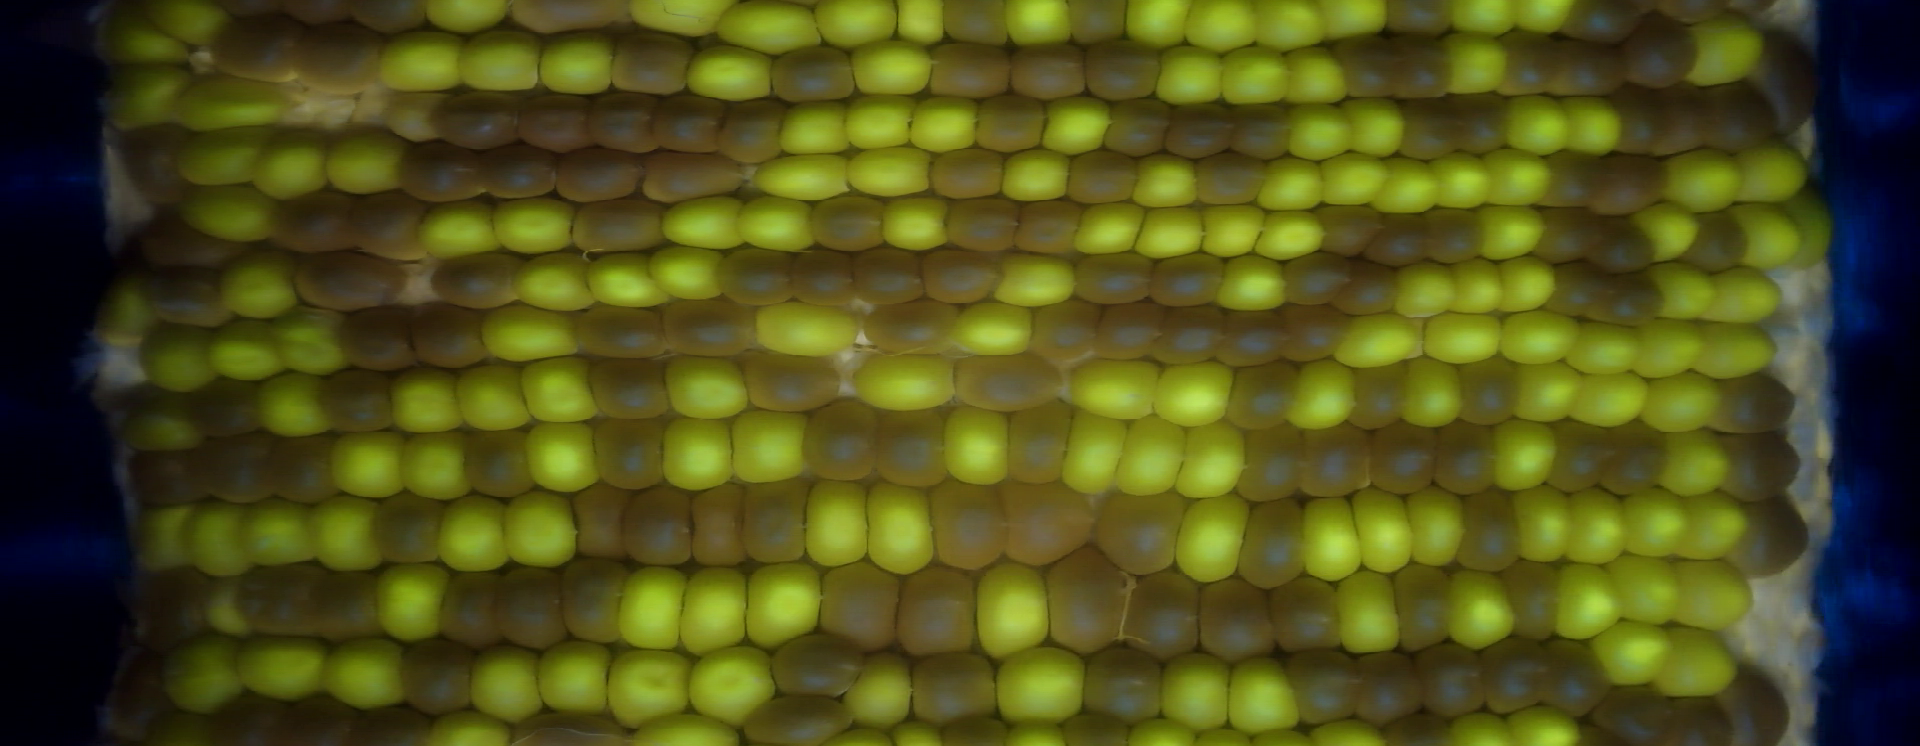fluorescent: (972, 556, 1062, 660), (993, 646, 1092, 728), (683, 644, 781, 726), (740, 561, 824, 650), (1673, 550, 1757, 639), (458, 639, 549, 723), (602, 644, 694, 726), (863, 477, 938, 577), (1176, 488, 1251, 586), (1325, 566, 1407, 657), (1441, 560, 1520, 653), (676, 560, 749, 657), (160, 632, 247, 713), (502, 486, 583, 572), (433, 490, 513, 577), (1071, 355, 1167, 428), (305, 491, 386, 576), (1158, 644, 1236, 733), (1171, 416, 1247, 506), (182, 180, 283, 247), (217, 243, 300, 323), (236, 628, 329, 701), (130, 320, 220, 393), (800, 475, 872, 567), (372, 24, 465, 96), (479, 298, 577, 365), (1597, 555, 1686, 628), (617, 565, 688, 657), (1346, 481, 1416, 575), (178, 73, 288, 132), (375, 555, 447, 644), (1656, 624, 1738, 702), (1656, 146, 1744, 218), (1223, 654, 1304, 733), (658, 408, 735, 490), (726, 412, 812, 485), (323, 635, 405, 710), (940, 402, 1009, 491), (451, 356, 535, 429), (752, 296, 860, 353), (852, 350, 958, 408), (386, 364, 468, 437), (393, 430, 475, 503), (844, 648, 917, 730), (529, 28, 618, 96), (520, 355, 604, 428), (1561, 483, 1633, 566), (236, 495, 320, 567), (1118, 412, 1184, 502), (538, 635, 613, 713), (456, 28, 544, 96), (682, 43, 778, 104), (1633, 370, 1723, 435), (256, 124, 331, 201), (208, 314, 288, 386), (507, 247, 594, 314), (662, 354, 749, 419), (1488, 414, 1558, 495), (1289, 353, 1358, 435), (718, 2, 824, 55), (98, 64, 182, 130), (1299, 492, 1362, 582), (525, 418, 600, 492), (1153, 360, 1233, 430), (1510, 481, 1577, 563), (329, 127, 408, 197), (994, 244, 1078, 309), (658, 191, 749, 250), (489, 195, 577, 256), (1618, 486, 1689, 562), (329, 430, 408, 499), (1408, 480, 1468, 570), (184, 497, 251, 577), (1062, 407, 1124, 492), (1561, 554, 1620, 644), (1338, 309, 1418, 375), (1589, 619, 1670, 684), (282, 304, 354, 376), (89, 12, 184, 67), (1657, 428, 1729, 499), (951, 298, 1033, 360), (256, 366, 331, 435), (842, 39, 931, 97), (179, 125, 260, 187), (756, 148, 856, 198), (1693, 323, 1778, 381), (1420, 145, 1494, 211), (1509, 356, 1582, 423), (1479, 143, 1555, 207), (1642, 258, 1718, 322), (1498, 307, 1580, 366), (1570, 364, 1640, 432), (1473, 197, 1547, 262), (1676, 492, 1750, 557), (845, 92, 920, 156), (736, 196, 818, 254), (1494, 247, 1561, 317), (1716, 256, 1782, 327), (418, 201, 504, 255), (1629, 316, 1702, 380), (656, 241, 731, 304), (1419, 309, 1500, 366), (124, 397, 204, 454), (1215, 47, 1292, 107), (588, 250, 670, 306), (1697, 16, 1762, 87), (1152, 40, 1224, 104), (1041, 96, 1117, 156), (778, 97, 853, 157), (1404, 356, 1466, 430), (845, 145, 929, 197), (1633, 198, 1700, 265), (1286, 39, 1351, 107), (1344, 97, 1411, 162), (1562, 96, 1629, 160), (1393, 255, 1457, 322), (1561, 322, 1641, 376), (1287, 98, 1356, 160), (1736, 141, 1805, 203), (879, 190, 949, 251), (1320, 146, 1386, 209), (629, 709, 743, 746), (909, 93, 981, 151), (1071, 197, 1142, 255), (1504, 93, 1567, 157), (1204, 198, 1270, 260), (1133, 201, 1202, 258), (91, 281, 148, 350), (1258, 153, 1322, 214), (820, 2, 898, 54), (1133, 149, 1199, 209), (1217, 254, 1283, 314), (1004, 143, 1071, 202), (1445, 27, 1502, 96), (1179, 1, 1258, 51), (1254, 208, 1330, 260), (1446, 257, 1507, 320), (1740, 202, 1794, 271), (1382, 151, 1440, 214), (140, 503, 189, 578), (422, 710, 520, 746), (626, 1, 722, 37), (1251, 1, 1330, 44), (1783, 196, 1834, 261), (1002, 1, 1073, 47), (1506, 707, 1587, 746), (420, 1, 509, 36), (1127, 2, 1189, 50), (896, 1, 954, 49), (146, 1, 216, 40), (1451, 1, 1517, 40), (1321, 2, 1389, 39), (1451, 710, 1510, 746), (1512, 1, 1580, 29)
nonfluorescent: (1044, 544, 1130, 657), (931, 472, 1015, 571), (289, 245, 413, 312), (1188, 570, 1278, 661), (1002, 477, 1100, 560), (1093, 488, 1184, 577), (894, 561, 978, 657), (900, 646, 1003, 722), (1753, 27, 1826, 135), (736, 344, 842, 414), (820, 560, 898, 654), (491, 565, 576, 649), (239, 560, 328, 639), (954, 345, 1065, 409), (1127, 571, 1204, 660), (1262, 570, 1346, 650), (1717, 661, 1798, 745), (800, 397, 879, 481), (1718, 425, 1804, 503), (770, 630, 864, 701), (1281, 648, 1367, 725), (621, 481, 694, 571), (1293, 423, 1376, 501), (425, 89, 525, 154), (557, 556, 624, 653), (331, 299, 418, 374), (212, 13, 302, 85), (1731, 496, 1810, 578), (1081, 644, 1163, 723), (1412, 637, 1489, 720), (1240, 495, 1307, 592), (433, 245, 523, 316), (1453, 485, 1523, 575), (572, 195, 670, 258), (135, 566, 213, 646), (299, 18, 380, 96), (634, 145, 744, 201), (1542, 639, 1614, 725), (876, 405, 949, 488), (405, 298, 496, 364), (587, 353, 672, 423), (1622, 82, 1698, 160), (845, 238, 931, 306), (130, 216, 236, 271), (261, 192, 362, 250), (767, 39, 858, 103), (591, 419, 671, 492), (862, 298, 958, 359), (1430, 416, 1502, 497), (662, 296, 756, 359), (740, 695, 855, 745), (1479, 632, 1547, 718), (1004, 397, 1068, 488), (1067, 247, 1164, 306), (460, 429, 536, 503), (402, 635, 473, 714), (305, 570, 384, 641), (1500, 559, 1565, 646), (924, 40, 1013, 104), (399, 138, 489, 201), (686, 485, 751, 571), (356, 185, 426, 265), (613, 27, 694, 96), (516, 85, 596, 153), (650, 85, 724, 159), (596, 83, 671, 157), (204, 432, 278, 507), (369, 491, 441, 567), (268, 430, 338, 508), (1392, 557, 1451, 650), (1626, 12, 1700, 86), (1367, 416, 1434, 496), (917, 245, 1003, 307), (129, 445, 211, 510), (746, 480, 807, 567), (1604, 419, 1670, 499), (551, 145, 642, 202), (1013, 192, 1087, 262), (1356, 650, 1425, 725), (1007, 37, 1091, 98), (124, 122, 189, 202), (945, 194, 1025, 258), (718, 246, 797, 311), (1084, 38, 1164, 102), (1057, 146, 1142, 206), (321, 365, 396, 434), (189, 372, 267, 437), (1238, 423, 1302, 502), (578, 306, 670, 361), (1547, 36, 1629, 97), (1696, 83, 1772, 149), (1283, 243, 1360, 307), (1457, 353, 1520, 432), (1155, 296, 1224, 367), (1347, 360, 1416, 432), (438, 570, 500, 650), (814, 187, 889, 254), (1031, 298, 1102, 366), (1097, 298, 1166, 369), (1228, 360, 1296, 432), (1310, 196, 1384, 261), (1325, 29, 1393, 98), (973, 87, 1042, 156), (489, 134, 556, 203), (1150, 249, 1229, 307), (1597, 151, 1667, 217), (1215, 306, 1284, 371), (1723, 375, 1798, 435), (1391, 27, 1450, 103), (1598, 266, 1665, 332), (724, 96, 789, 164), (1336, 254, 1400, 323), (144, 267, 220, 325), (1228, 96, 1294, 160), (1103, 96, 1168, 162), (1162, 97, 1229, 160), (1689, 208, 1752, 276), (934, 146, 1010, 202), (573, 483, 629, 559), (1191, 148, 1261, 209), (516, 713, 644, 746), (1499, 27, 1558, 98), (791, 241, 853, 307), (214, 687, 284, 746), (1551, 419, 1605, 495), (1277, 301, 1342, 364), (508, 1, 629, 34), (1604, 682, 1675, 739), (283, 691, 354, 746), (1594, 211, 1656, 274), (1536, 206, 1600, 266), (1368, 208, 1429, 269), (1397, 93, 1452, 160), (1423, 206, 1483, 267), (349, 701, 430, 746), (1549, 258, 1602, 325), (1660, 697, 1731, 746), (1544, 149, 1600, 211), (1558, 1, 1648, 39), (1452, 87, 1502, 151), (940, 2, 1009, 44), (347, 1, 435, 29), (1382, 1, 1453, 36), (1068, 2, 1128, 43)
